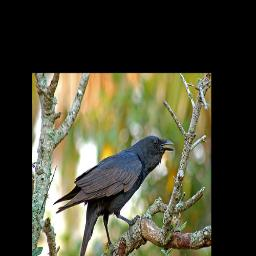Crow: (52, 135, 175, 256)
